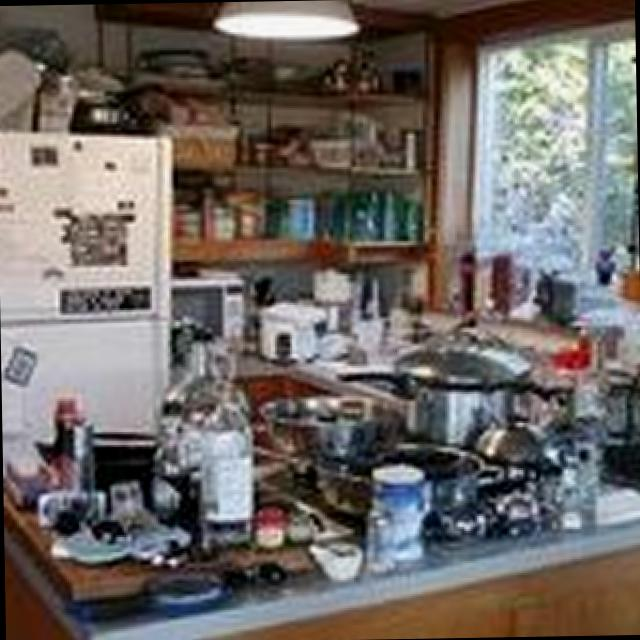mess: (5, 412, 640, 612), (104, 0, 472, 246), (287, 283, 640, 424)
